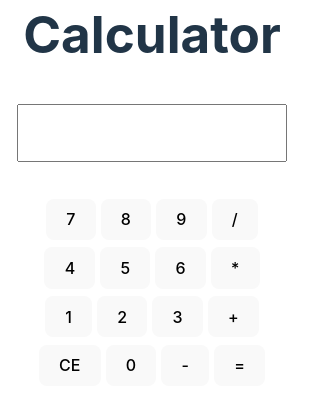
Test case: Calculator › should compute / operator
This screenshot has width=320, height=402.
Click the button "2": (122, 317) [97,296,147,337]
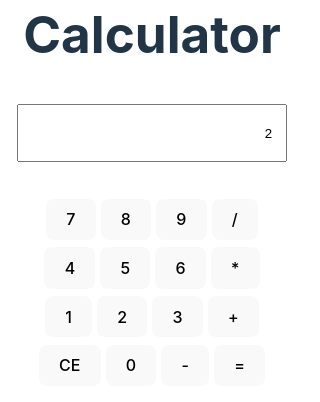
Click the button "/": (235, 219) [212,199,258,240]
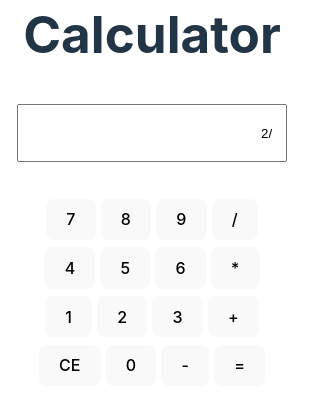
Click the button "2": (122, 317) [97,296,147,337]
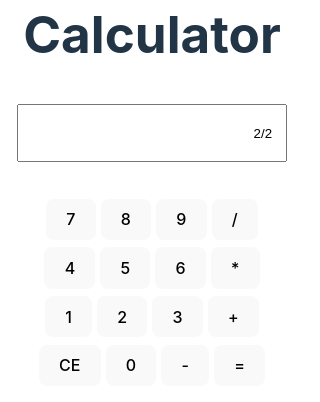
Expected: the field holds "2/2", [16,104,287,162]
Click the button "=": (240, 365) [214,345,265,386]
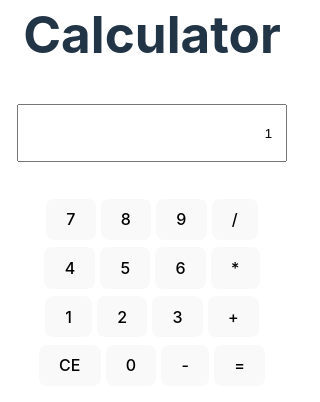
Expected: the field holds "1", [16,104,287,162]
